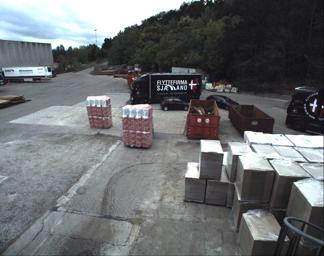rockwool_batts: (120, 105, 151, 147), (85, 96, 112, 125)
